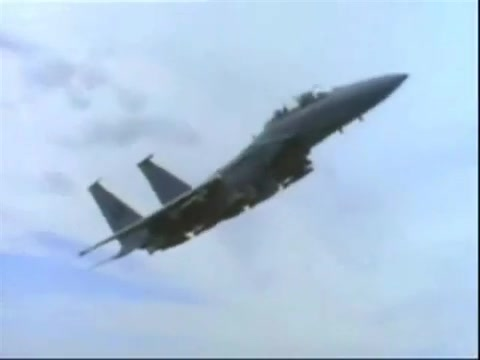aeroplane: (79, 72, 411, 266)
